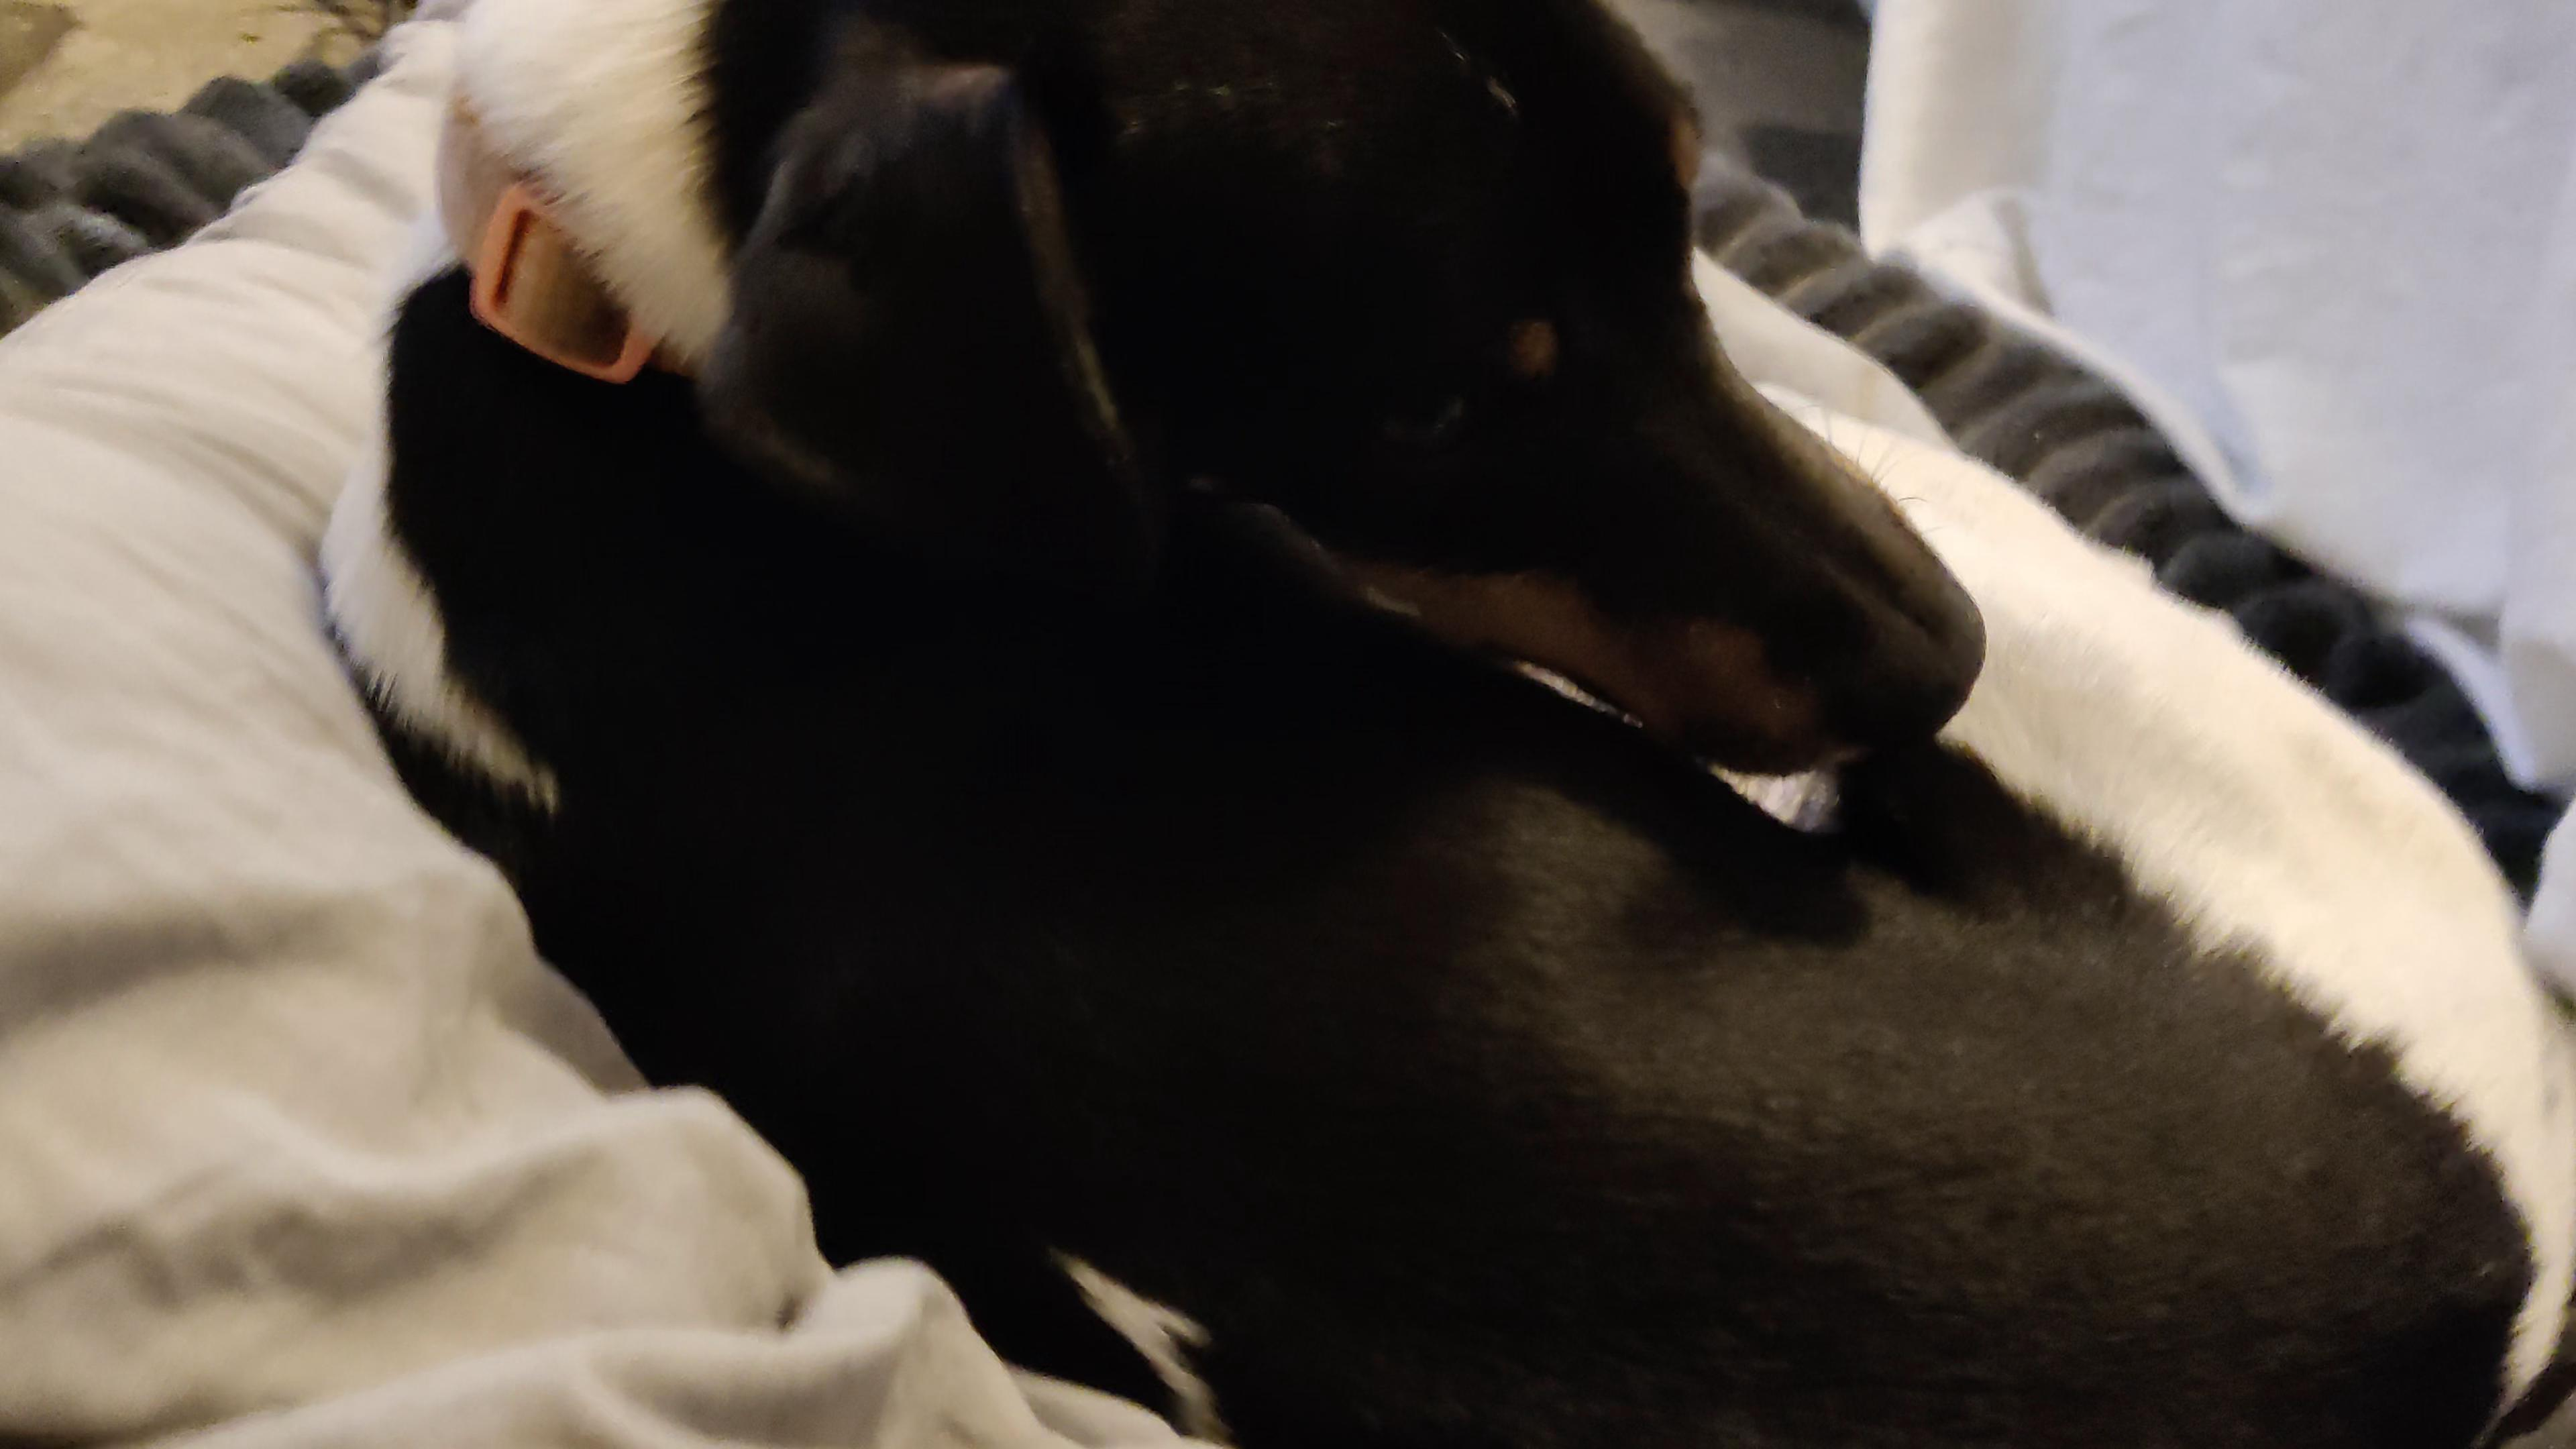Dog: (276, 0, 2576, 1449)
